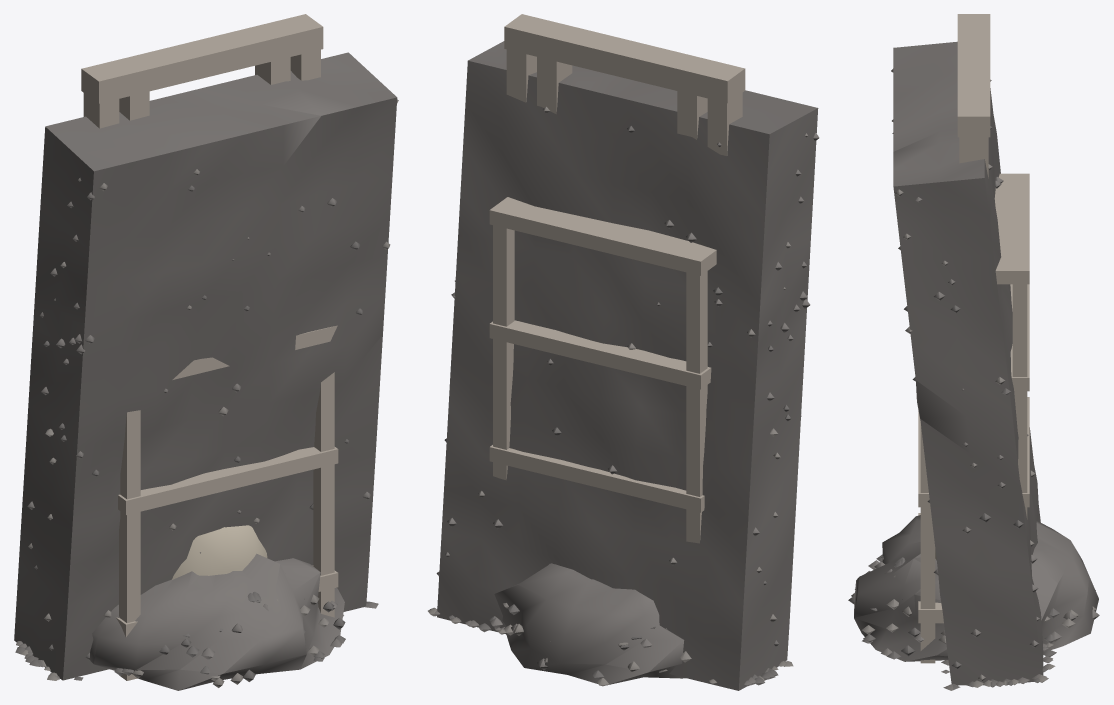
Rendered from cellar_props.glb.
The picture shows the model from 3 angles, left to right: view 1: azimuth 30°, elevation 25°; view 2: azimuth 150°, elevation 25°; view 3: azimuth 270°, elevation 25°; orthographic projection. The views are drawn at different scales.
Visible parts, largest first — view 1: p_cel_slump, p_cel_heap, p_cel_shelf, p_cel_frame, p_cel_sack, p_cel_frame_narrow; view 2: p_cel_slump, p_cel_shelf, p_cel_heap, p_cel_frame, p_cel_frame_narrow; view 3: p_cel_slump, p_cel_heap, p_cel_shelf, p_cel_frame, p_cel_frame_narrow.
Part boxes in pixels (x1,y1,x2,y2): p_cel_slump: (14, 52, 398, 680); p_cel_heap: (89, 553, 345, 690); p_cel_shelf: (116, 325, 338, 680); p_cel_frame: (81, 14, 323, 128); p_cel_sack: (172, 525, 267, 579); p_cel_frame_narrow: (114, 24, 290, 120); p_cel_slump: (428, 41, 819, 690); p_cel_shelf: (489, 197, 716, 543); p_cel_heap: (489, 563, 691, 686); p_cel_frame: (504, 14, 745, 155); p_cel_frame_narrow: (534, 22, 713, 139); p_cel_slump: (891, 41, 1056, 690); p_cel_heap: (848, 515, 1099, 661); p_cel_shelf: (918, 173, 1029, 663); p_cel_frame: (957, 14, 990, 178); p_cel_frame_narrow: (957, 28, 990, 102).
Size of the model in its own units: 1.08 by 1.85 by 0.7673.
